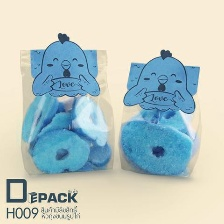snack: (13, 28, 119, 180), (116, 43, 206, 183)
